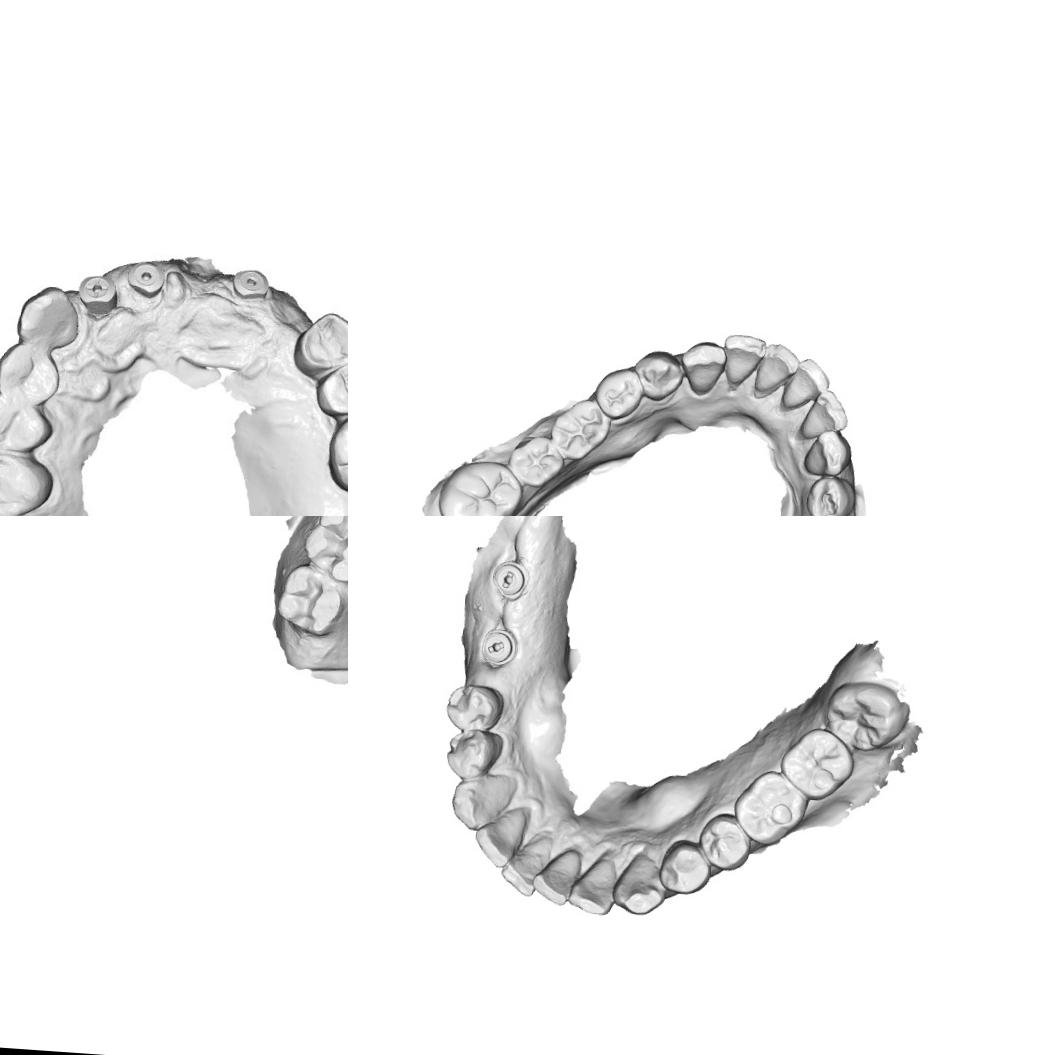canine: (448, 770, 516, 833), (13, 289, 81, 348), (610, 849, 666, 916), (677, 336, 727, 398), (800, 424, 856, 478)
implant: (229, 262, 272, 302), (125, 258, 162, 296)
implant_minus: (489, 557, 530, 604), (476, 626, 518, 670)
implant_plus: (75, 271, 116, 310)
incisor: (472, 804, 530, 870), (568, 853, 618, 916), (780, 354, 832, 412), (797, 388, 850, 442), (530, 850, 579, 908), (498, 836, 543, 898), (718, 330, 766, 388), (752, 340, 801, 395)
molar: (822, 677, 913, 756), (730, 766, 810, 848), (777, 724, 856, 802), (273, 561, 346, 641), (434, 455, 524, 516), (548, 394, 612, 463), (505, 432, 568, 491), (0, 443, 51, 515), (302, 516, 348, 585), (328, 408, 348, 491)
premolar: (441, 680, 505, 735), (443, 725, 504, 781), (696, 812, 752, 871), (656, 837, 712, 895), (293, 309, 348, 368), (592, 362, 646, 422), (630, 346, 685, 402), (0, 392, 53, 450), (0, 344, 58, 397), (801, 473, 858, 516), (322, 354, 348, 409)
